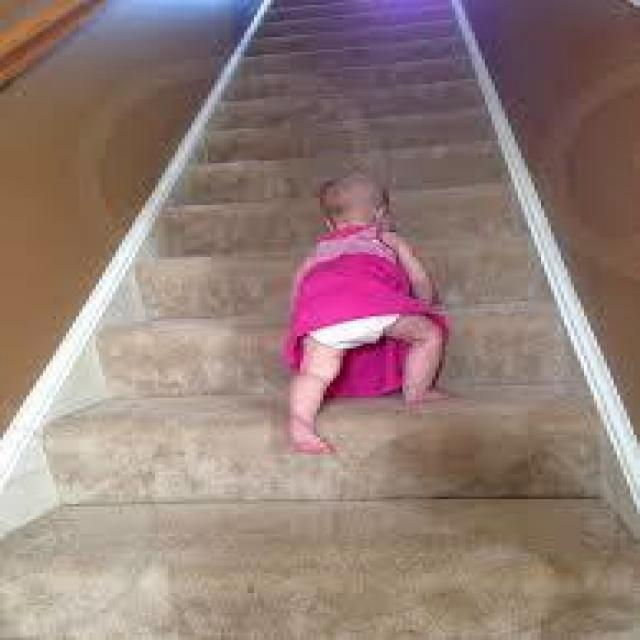child: (264, 166, 456, 460)
